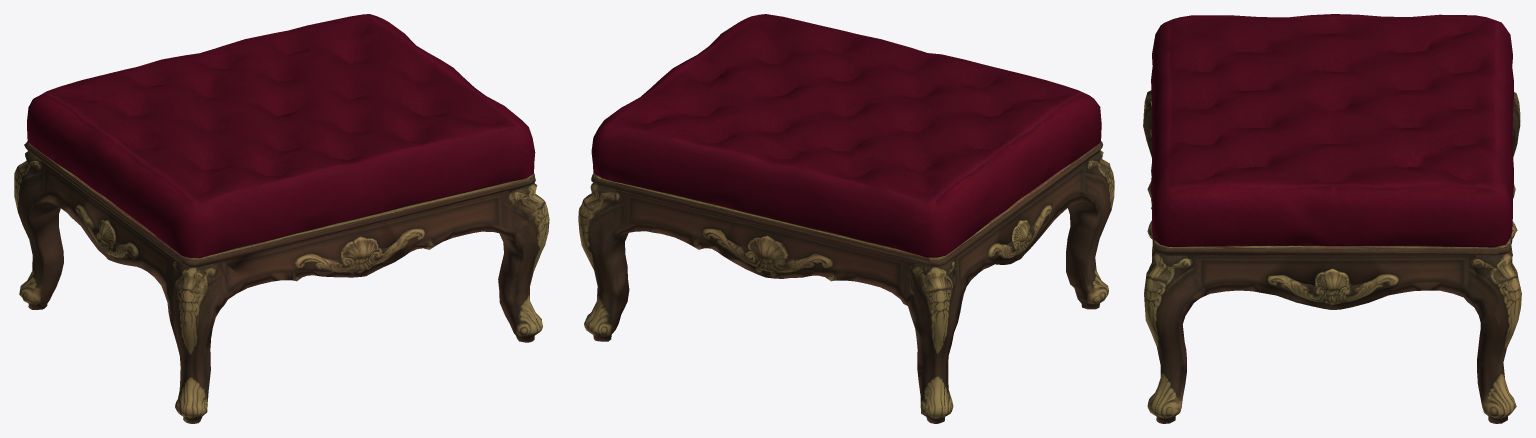
Rendered from rrr_prop_ottoman_v1.glb.
3 views of the same model, side by side, from view 1: azimuth 30°, elevation 25°; view 2: azimuth 150°, elevation 25°; view 3: azimuth 270°, elevation 25° (orthographic). The views are drawn at different scales.
Visible parts, largest first — view 1: Mesh_0; view 2: Mesh_0; view 3: Mesh_0.
Part boxes in pixels (x1,y1,x2,y2): Mesh_0: (14, 14, 549, 423); Mesh_0: (578, 14, 1114, 423); Mesh_0: (1143, 14, 1521, 423).
Size of the model in its own units: 0.768 by 0.45 by 0.645.
Materials: 1 (1 with a texture image).
